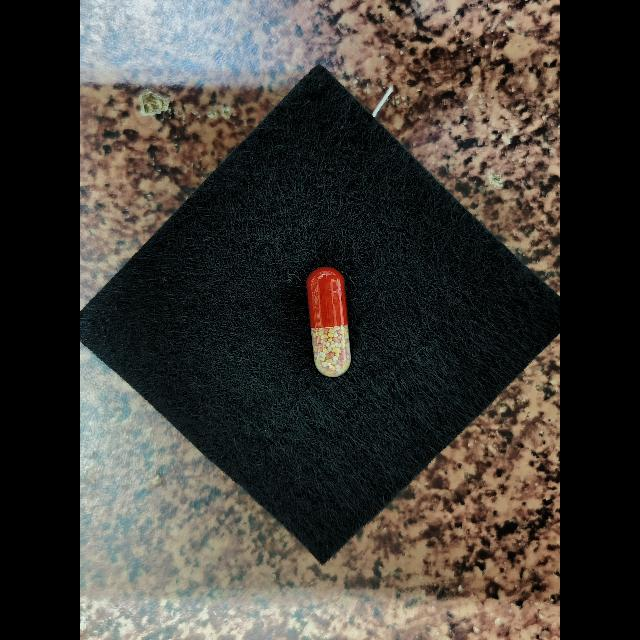Intact Capsule: (307, 267, 351, 377)
